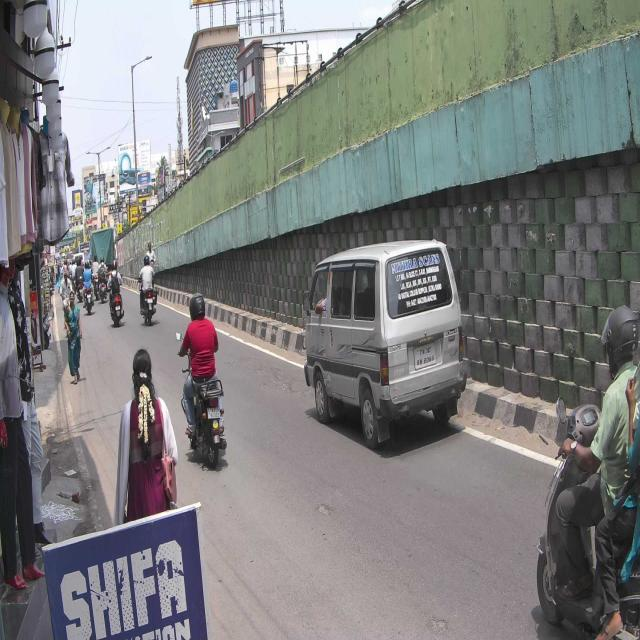single_rider: (176, 292, 230, 470)
